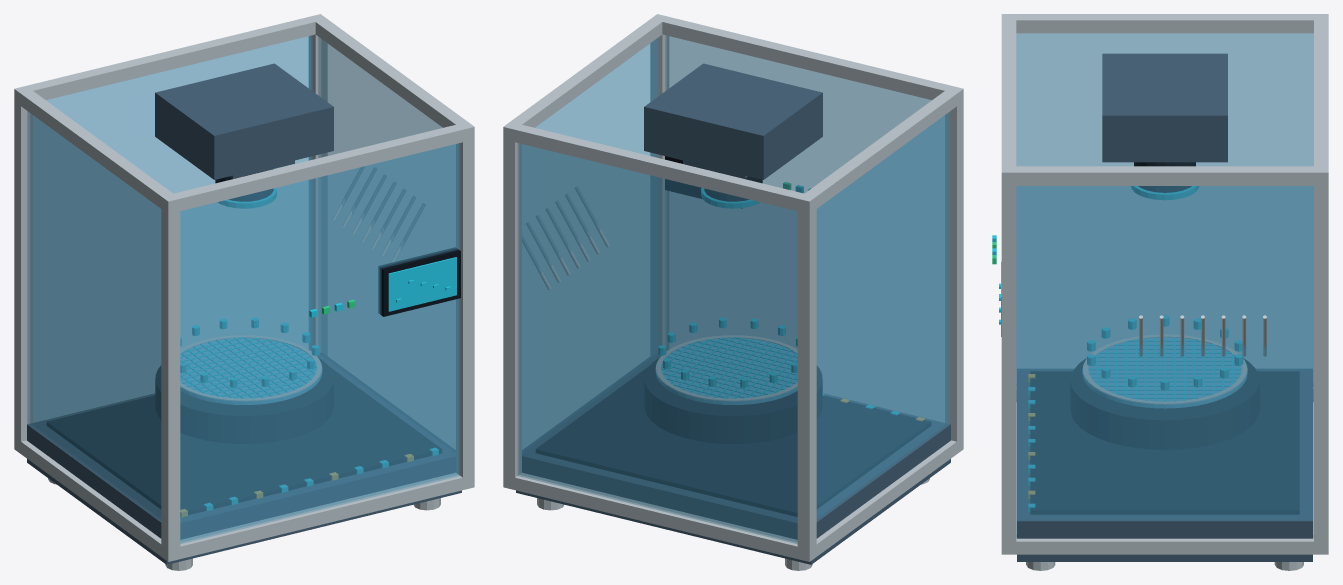
File: 32_L79_WaferBowInterferometryScanner.fbx
The picture shows the model from 3 angles, left to right: view 1: azimuth 30°, elevation 25°; view 2: azimuth 150°, elevation 25°; view 3: azimuth 270°, elevation 25°; orthographic projection. The views are drawn at different scales.
Visible parts, largest first — view 1: WaferBowInterferometryScanner; view 2: WaferBowInterferometryScanner; view 3: WaferBowInterferometryScanner, WaferBowInterferometryScanner_Part_0096, WaferBowInterferometryScanner_Part_0097.
Part boxes in pixels (box(x1,y1,x2,y2)): WaferBowInterferometryScanner: box(14, 14, 474, 570); WaferBowInterferometryScanner: box(503, 14, 963, 570); WaferBowInterferometryScanner: box(992, 14, 1328, 570); WaferBowInterferometryScanner_Part_0096: box(1134, 162, 1195, 192); WaferBowInterferometryScanner_Part_0097: box(1131, 186, 1198, 199).
Bounding box in the file's own units: 230 × 267 × 195.
